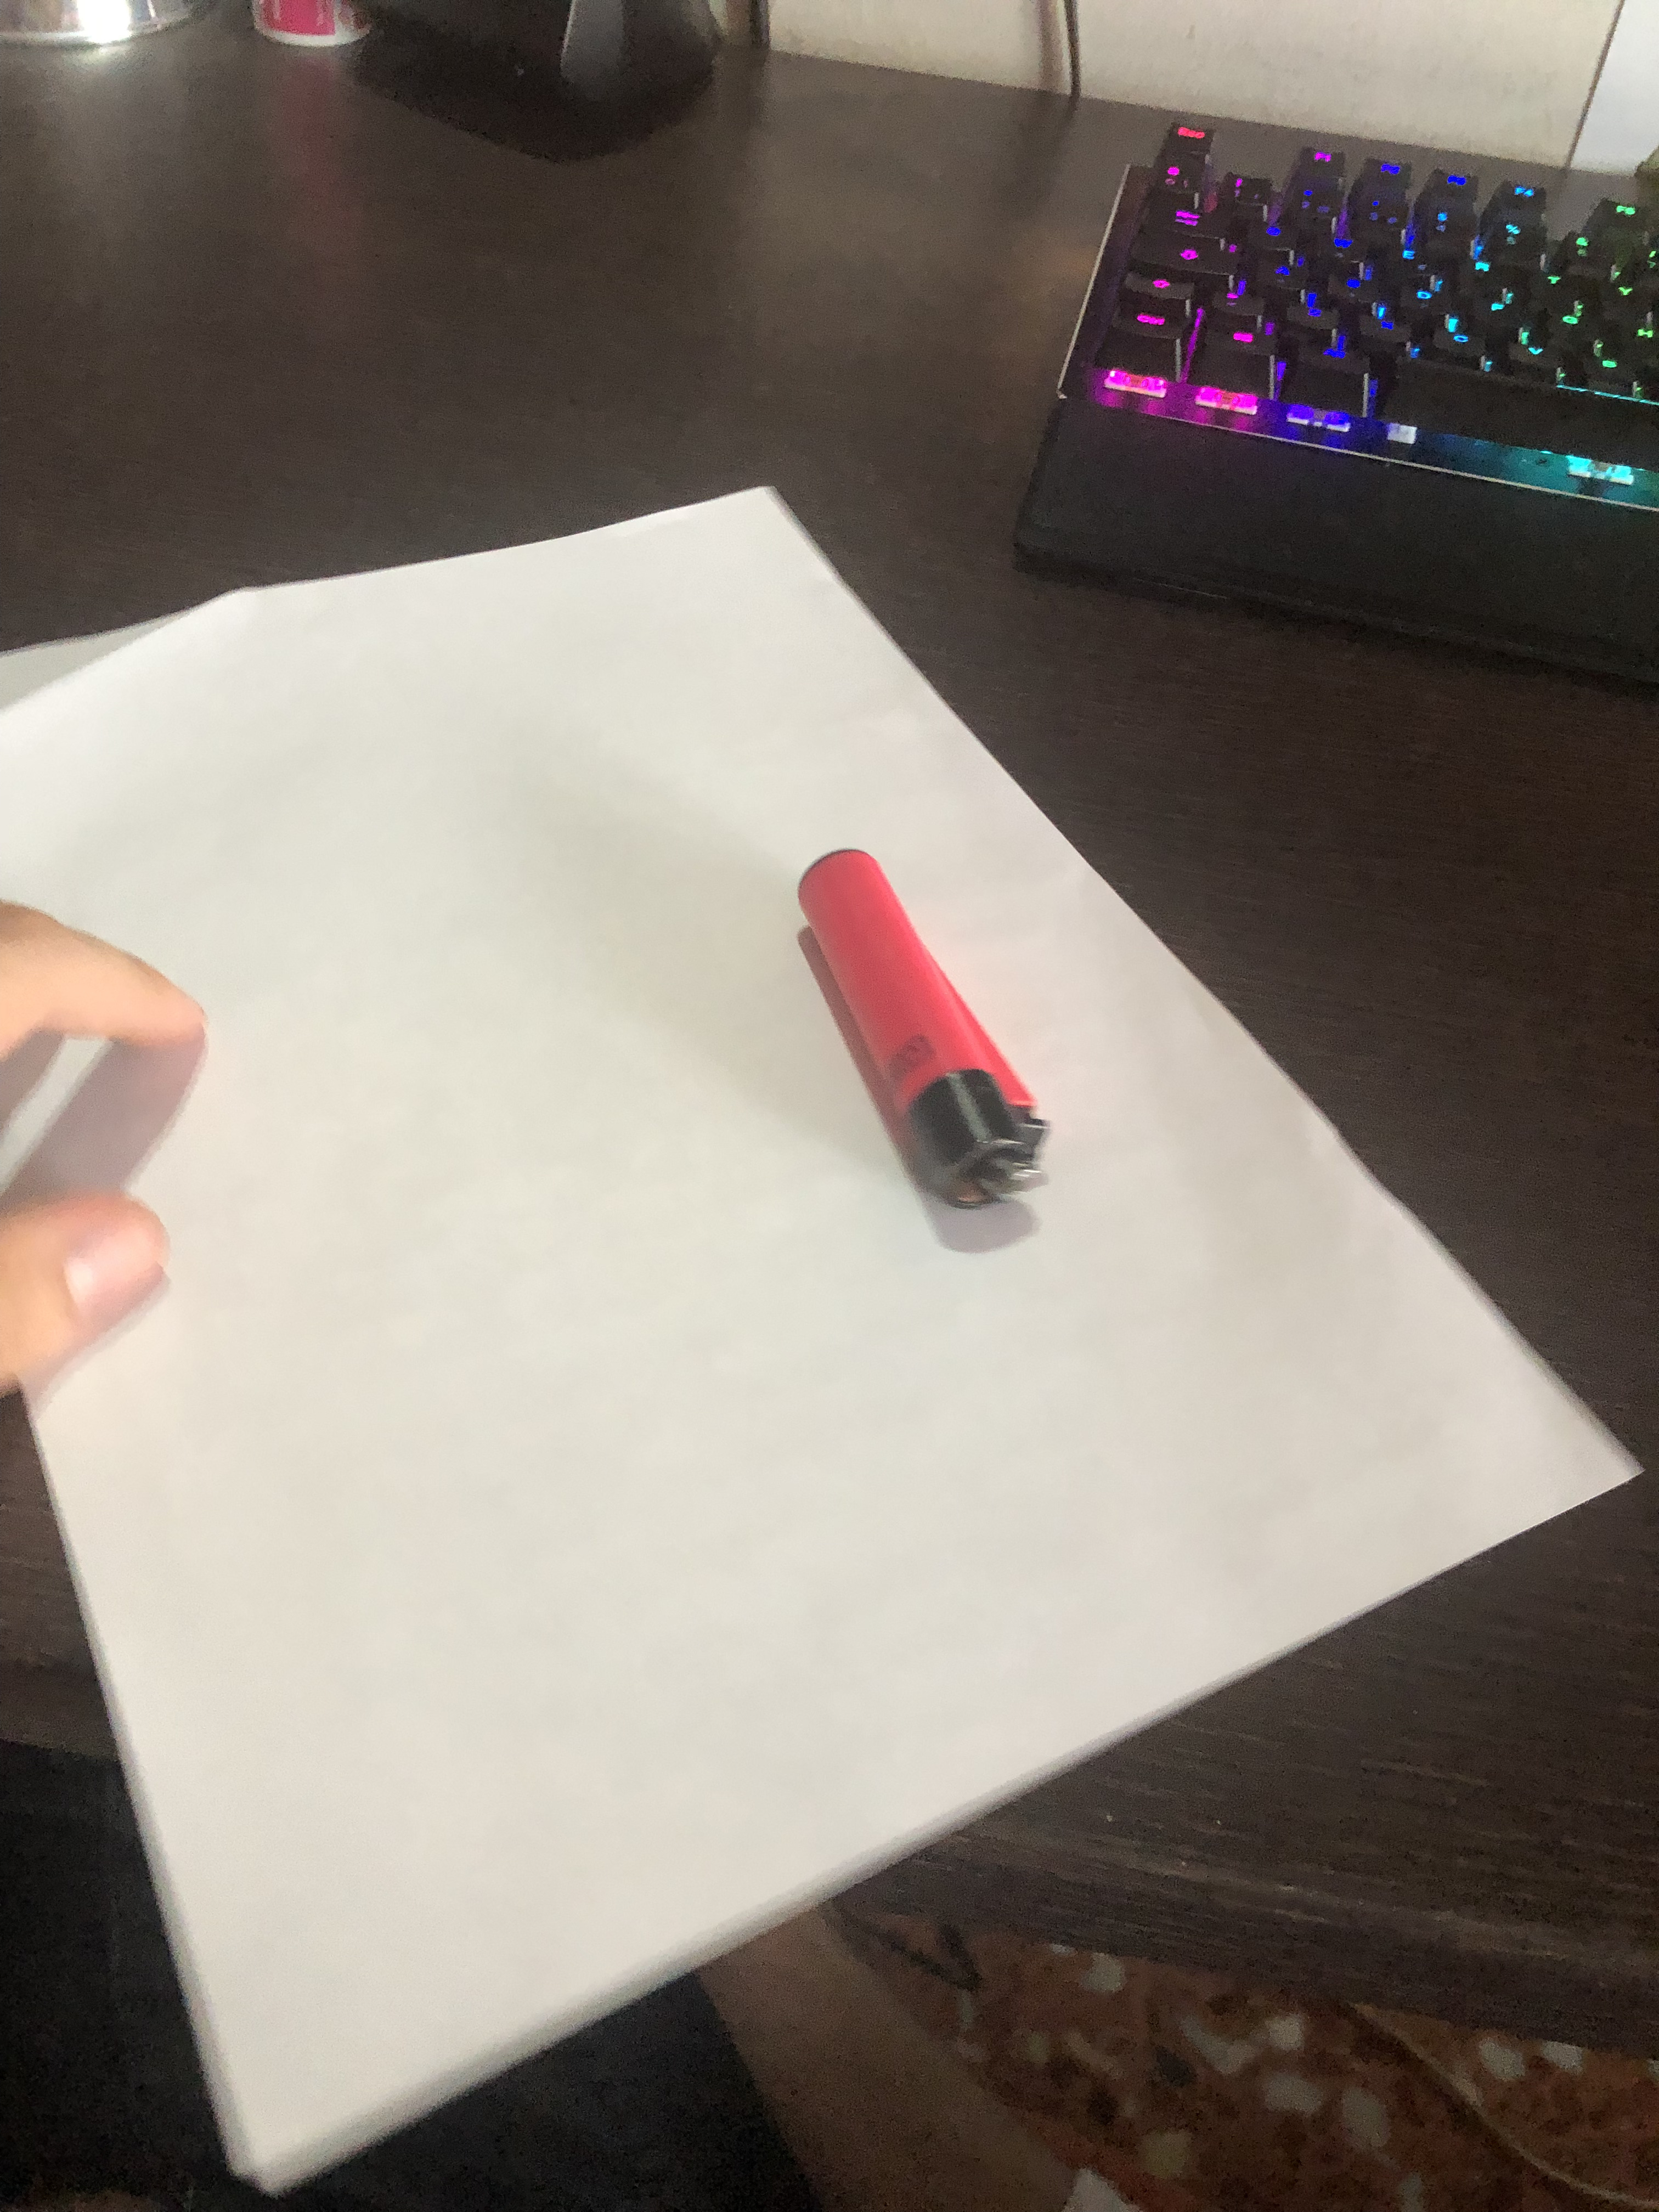Mechero: (779, 848, 1066, 1233)
